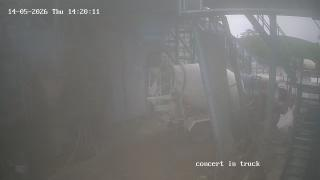cement_mixer_truck: (147, 55, 289, 142)
